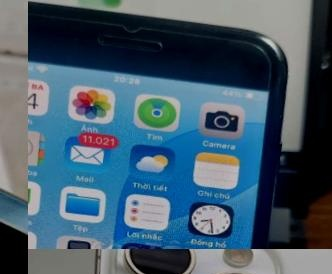scratch: (28, 0, 304, 249)
